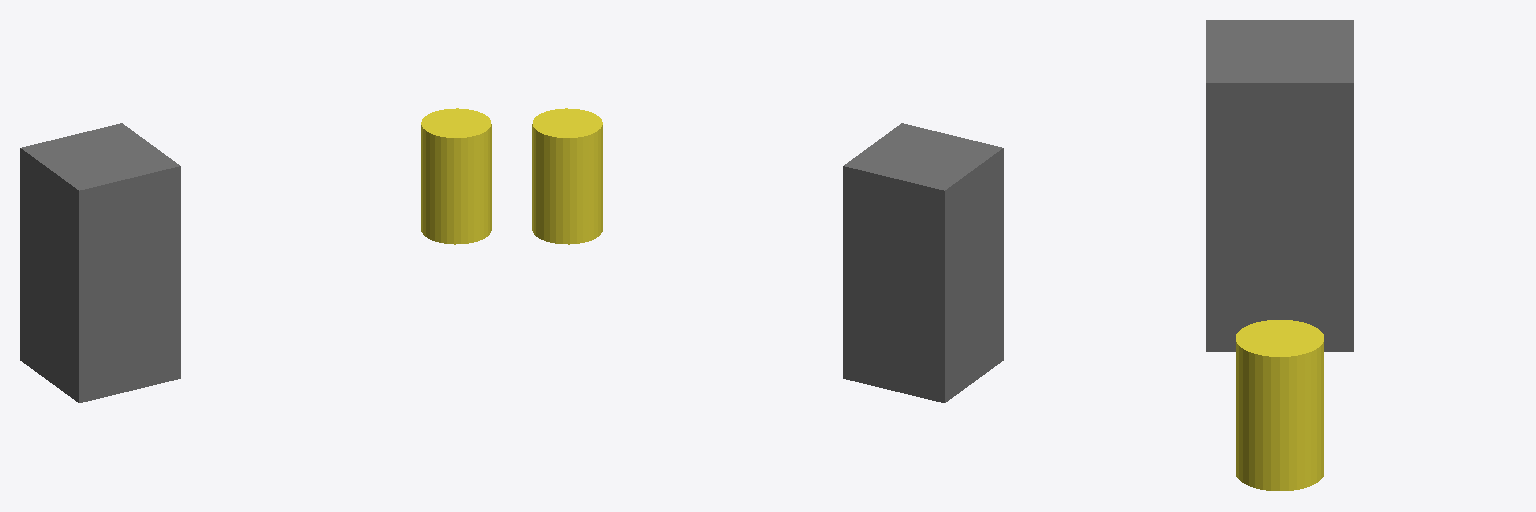
URDF robot description (arm3):
<?xml version="1.0"?>
<!-- A deliberately hand-checkable robot:
     base -(fixed, +0.1z)- mount -(rev Z, +0.2z)- l1 -(rev Y, +0.3x)- l2
     -(prismatic X, +0.4x)- l3 -(fixed, +0.05x)- tool
     Fixed joints exist to prove they are folded away rather than boned. -->
<robot name="arm3">
  <material name="grey"><color rgba="0.5 0.5 0.5 1.0"/></material>

  <link name="base"/>
  <link name="mount"/>
  <link name="l1">
    <visual>
      <origin xyz="0 0 0" rpy="0 0 0"/>
      <geometry><box size="0.1 0.1 0.2"/></geometry>
      <material name="grey"/>
    </visual>
  </link>
  <link name="l2">
    <visual>
      <origin xyz="0.05 0 0" rpy="0 0 0"/>
      <geometry><cylinder radius="0.03" length="0.1"/></geometry>
    </visual>
  </link>
  <link name="l3"/>
  <link name="tool"/>

  <joint name="base_to_mount" type="fixed">
    <parent link="base"/><child link="mount"/>
    <origin xyz="0 0 0.1" rpy="0 0 0"/>
  </joint>
  <joint name="joint1" type="revolute">
    <parent link="mount"/><child link="l1"/>
    <origin xyz="0 0 0.2" rpy="0 0 0"/>
    <axis xyz="0 0 1"/>
    <limit lower="-1.5" upper="1.5" effort="10" velocity="1"/>
  </joint>
  <joint name="joint2" type="revolute">
    <parent link="l1"/><child link="l2"/>
    <origin xyz="0.3 0 0" rpy="0 0 0"/>
    <axis xyz="0 1 0"/>
    <limit lower="-2.0" upper="2.0" effort="10" velocity="1"/>
  </joint>
  <joint name="joint3" type="prismatic">
    <parent link="l2"/><child link="l3"/>
    <origin xyz="0.4 0 0" rpy="0 0 0"/>
    <axis xyz="1 0 0"/>
    <limit lower="0.0" upper="0.25" effort="10" velocity="1"/>
  </joint>
  <joint name="l3_to_tool" type="fixed">
    <parent link="l3"/><child link="tool"/>
    <origin xyz="0.05 0 0" rpy="0 0 0"/>
  </joint>
</robot>

--- Render facts (derived) ---
The picture shows the robot from 3 angles, left to right: view 1: azimuth 30°, elevation 25°; view 2: azimuth 150°, elevation 25°; view 3: azimuth 270°, elevation 25°; orthographic projection.
Model arm3 with 6 links and 5 joints (2 revolute, 1 prismatic, 2 fixed), rooted at base, posed all joints at 0.
Links seen in each view (by area): view 1: l1, l2; view 2: l1, l2; view 3: l1, l2.
Boxes of the visible links, left/top/right/bottom form: l1: left=20, top=123, right=180, bottom=402; l2: left=421, top=108, right=491, bottom=244; l1: left=843, top=123, right=1003, bottom=402; l2: left=532, top=108, right=602, bottom=244; l1: left=1206, top=20, right=1353, bottom=351; l2: left=1236, top=320, right=1323, bottom=490.
Size in the robot's own frame: 0.43 by 0.1 by 0.2 metres.
Geometry: primitives only (box / cylinder / sphere), no mesh files.
